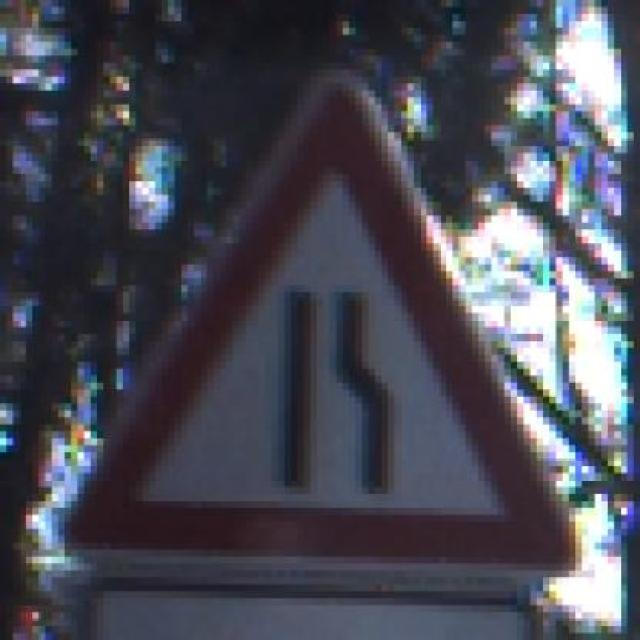-Road narrows on right: (58, 57, 594, 606)
